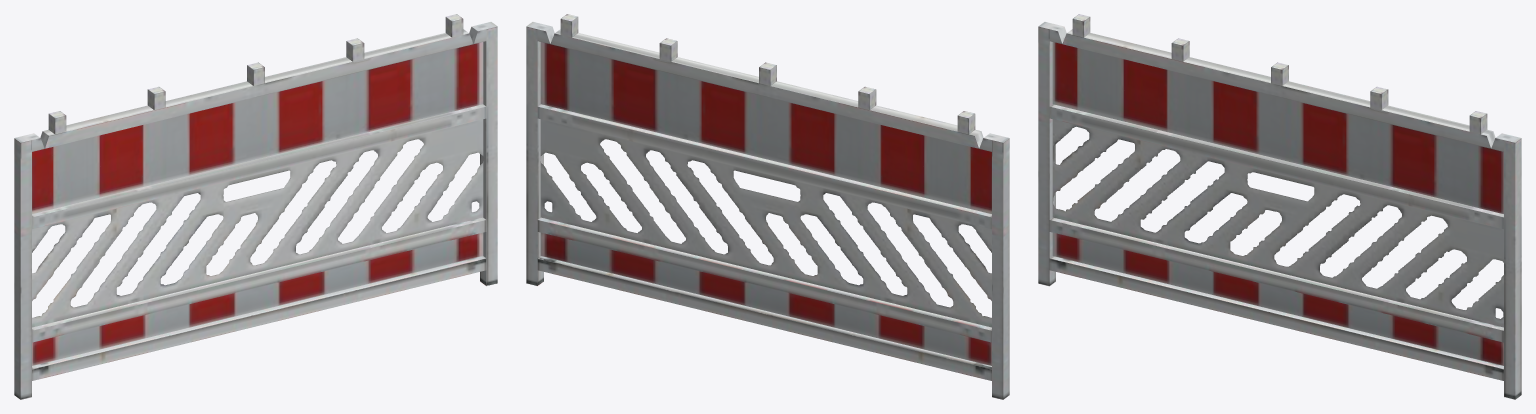
The model's file is Barricade02.obj.
3 renders of one model, left to right at view 1: azimuth 30°, elevation 25°; view 2: azimuth 150°, elevation 25°; view 3: azimuth 330°, elevation 25°, orthographic.
Visible parts, largest first — view 1: Barricade02; view 2: Barricade02; view 3: Barricade02.
Boxes of the visible parts, left/top/right/bottom form: Barricade02: left=14, top=14, right=497, bottom=399; Barricade02: left=526, top=14, right=1009, bottom=399; Barricade02: left=1038, top=14, right=1521, bottom=399.
Size of the model in its own units: 2.5 by 1.37 by 0.0595.
